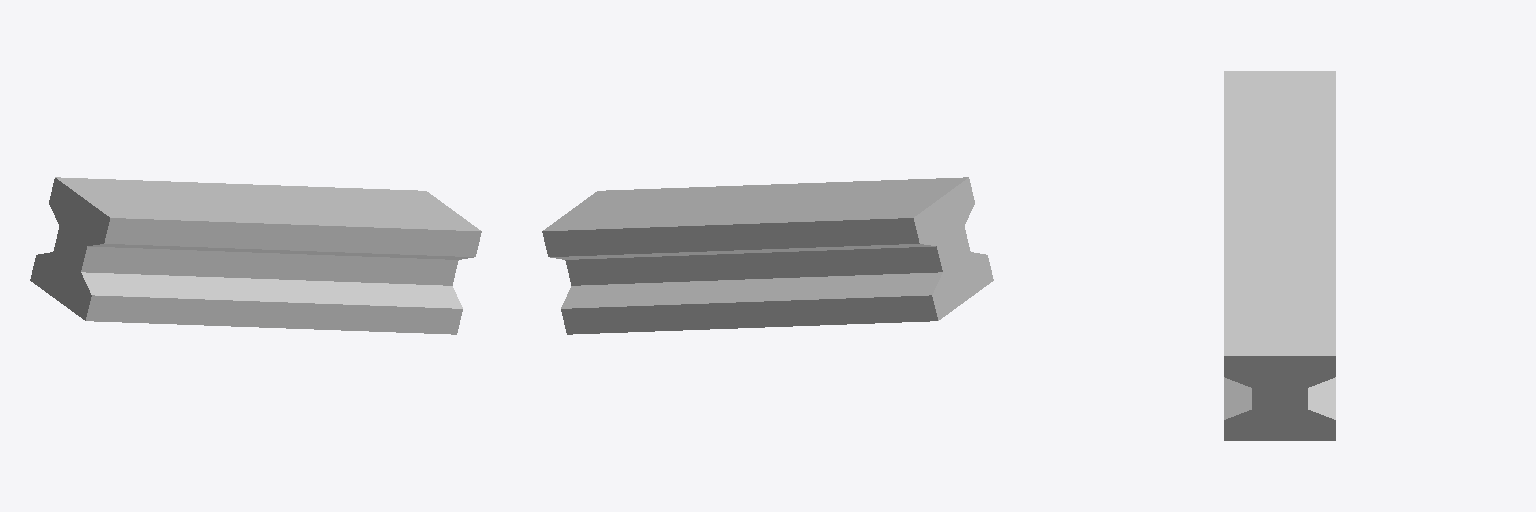
File: 15DegPlatform.obj
3 views of the same model, side by side, from view 1: azimuth 30°, elevation 25°; view 2: azimuth 150°, elevation 25°; view 3: azimuth 270°, elevation 25° (orthographic).
Bounding box in the file's own units: 8.24 × 4 × 2.